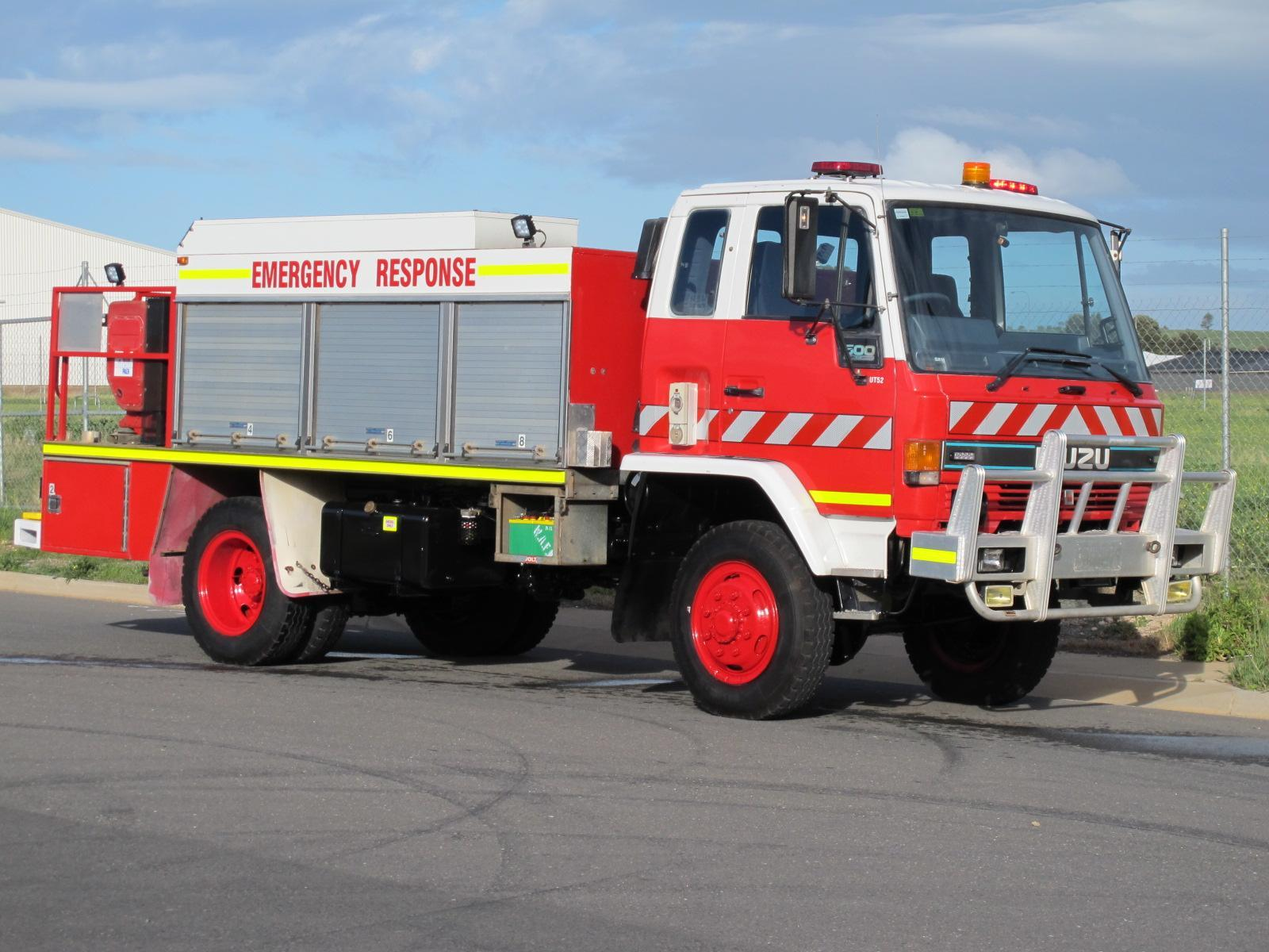Fire-engine: (34, 165, 1187, 724)
